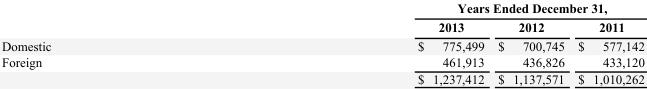table: (1, 0, 643, 86)
table column: (233, 0, 490, 86), (1, 0, 233, 86), (490, 0, 570, 86), (570, 0, 643, 86)
table column header: (1, 0, 643, 36)
table row: (1, 17, 643, 36), (1, 0, 643, 17), (1, 36, 643, 53), (1, 53, 643, 70), (1, 70, 643, 86)
table spanning cell: (233, 0, 643, 17)
